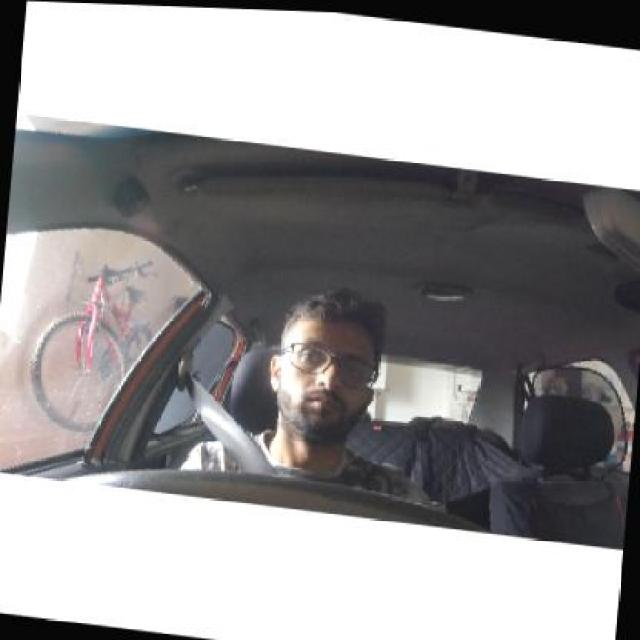person: (267, 288, 395, 452)
